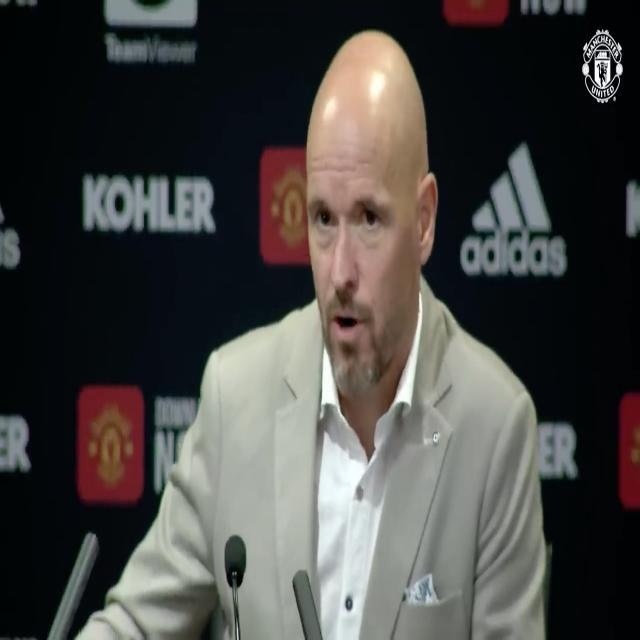Adidas: (460, 143, 568, 278)
Kohler: (83, 173, 216, 232)
TeamViewer: (103, 0, 196, 63)
